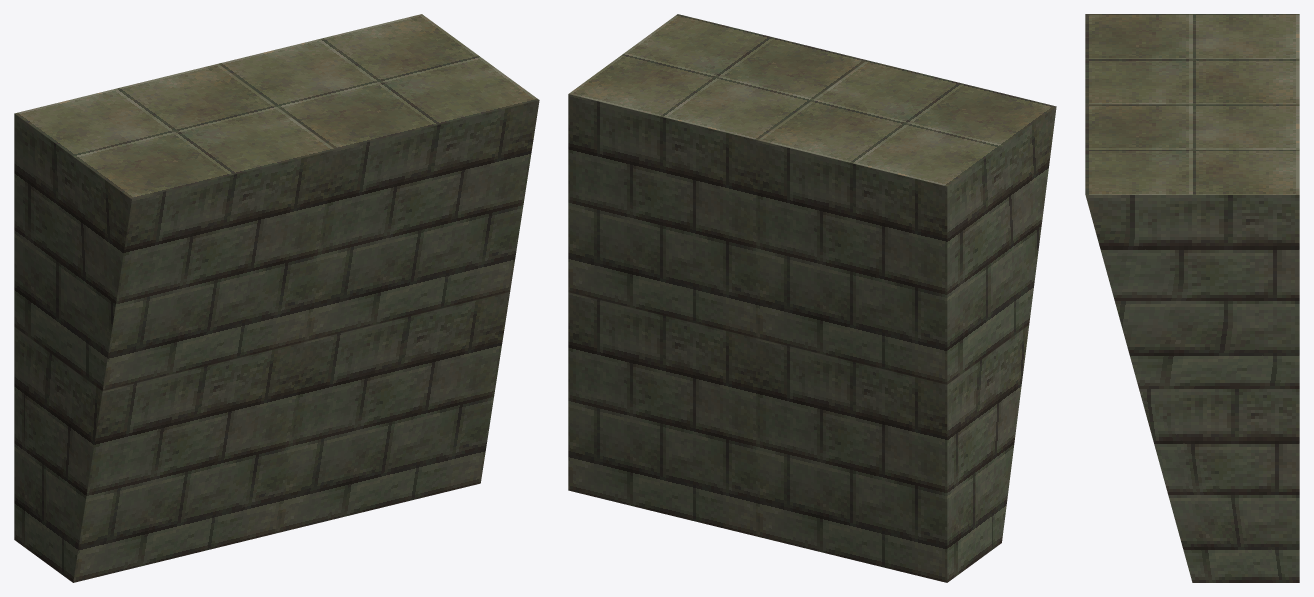
File: wall_expanding.glb
The picture shows the model from 3 angles, left to right: view 1: azimuth 30°, elevation 25°; view 2: azimuth 150°, elevation 25°; view 3: azimuth 270°, elevation 25°; orthographic projection. The views are drawn at different scales.
Parts seen in each view (by area): view 1: wall_expanding; view 2: wall_expanding; view 3: wall_expanding.
Part boxes in pixels (box(x1,y1,x2,y2)): wall_expanding: box(14, 14, 539, 582); wall_expanding: box(568, 14, 1056, 582); wall_expanding: box(1085, 14, 1299, 582).
Bounding box in the file's own units: 4 × 4 × 2.
Materials: 1 (1 with a texture image).
